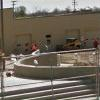stairs: (5, 78, 100, 100)
